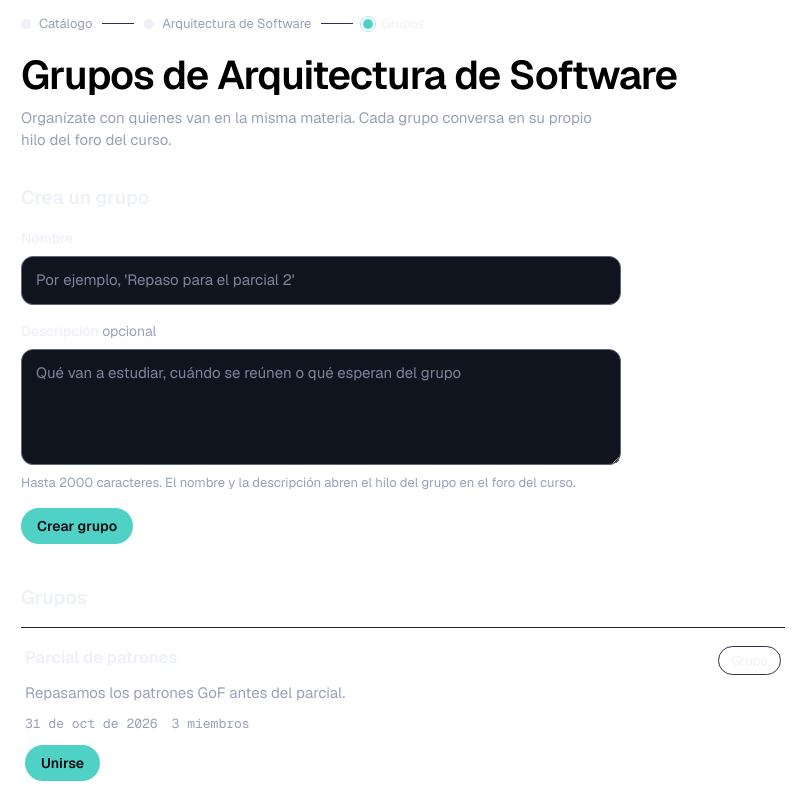
Test: StudyGroupsPage › con sesión crea un grupo: aparece primero, como miembro, con el foco y el anuncio
This screenshot has width=807, height=788.
Expected: the form named "Crear un grupo" is shown, [21,228,621,544]
Type "  Taller de Spring " into the field labelled "Nombre" at (321, 280), box [21,256,621,305]
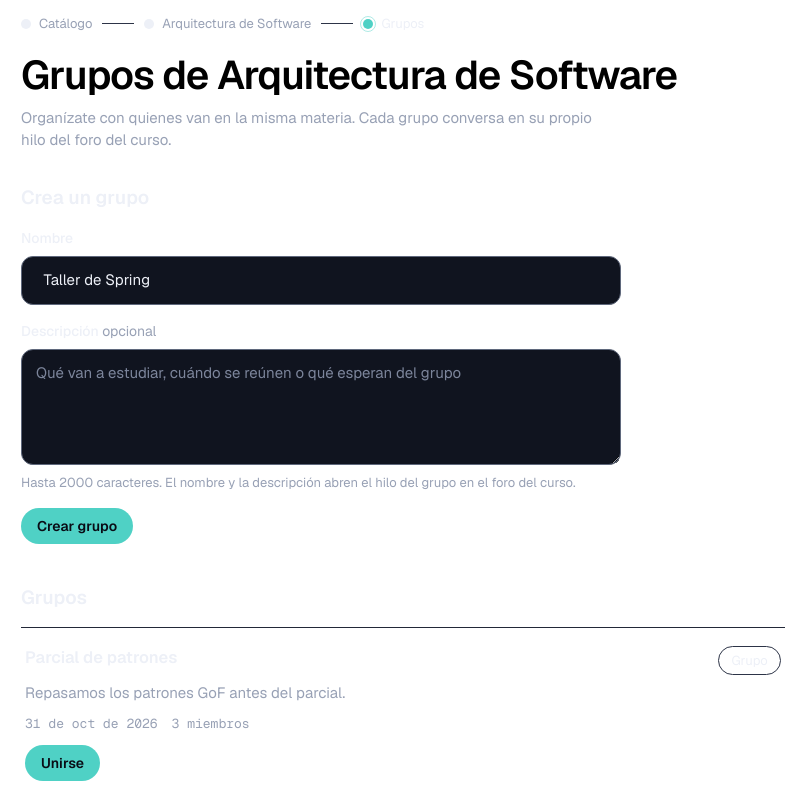
Click the button "Crear grupo" at (77, 526), box [21,508,133,544]
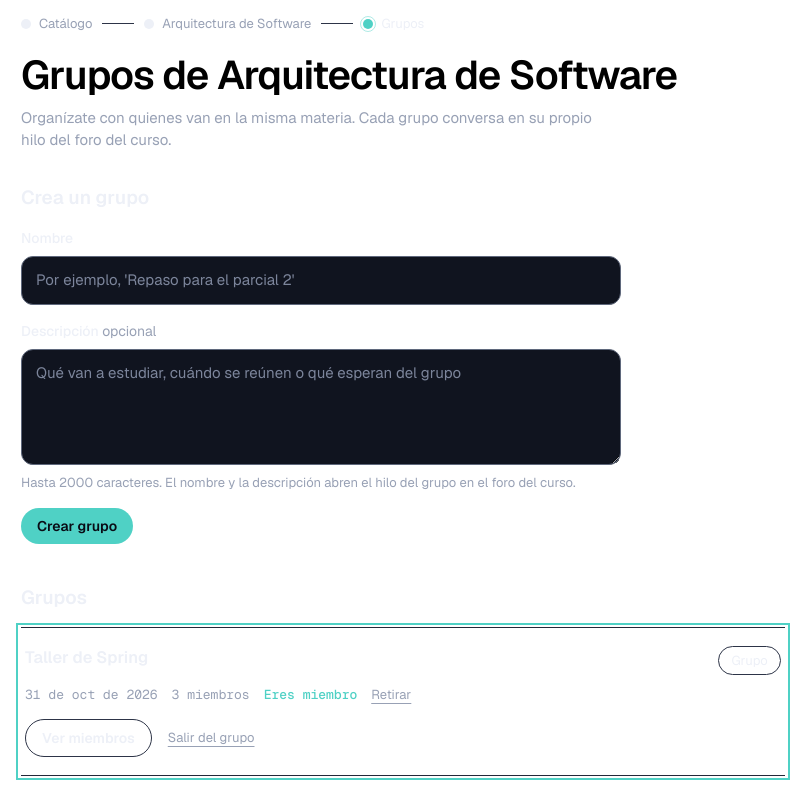
Expected: the element that starts with "Taller de Spring" shows "Eres miembro", [264,686,357,703]
Expected: the field labelled "Nombre" is empty, [21,256,621,305]
